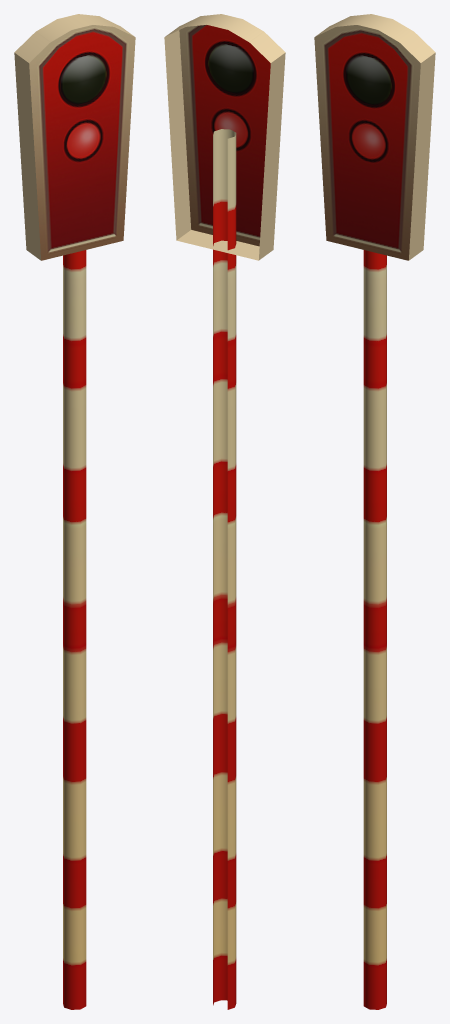
Rendered from Light.fbx.
3 renders of one model, left to right at view 1: azimuth 30°, elevation 25°; view 2: azimuth 150°, elevation 25°; view 3: azimuth 330°, elevation 25°, orthographic.
Visible parts, largest first — view 1: Light; view 2: Light; view 3: Light.
Part boxes in pixels (bbox=[...]): Light: bbox=[14, 14, 135, 1009]; Light: bbox=[164, 14, 285, 1009]; Light: bbox=[314, 14, 435, 1009].
Size of the model in its own units: 1.78 by 15.71 by 0.4282.
